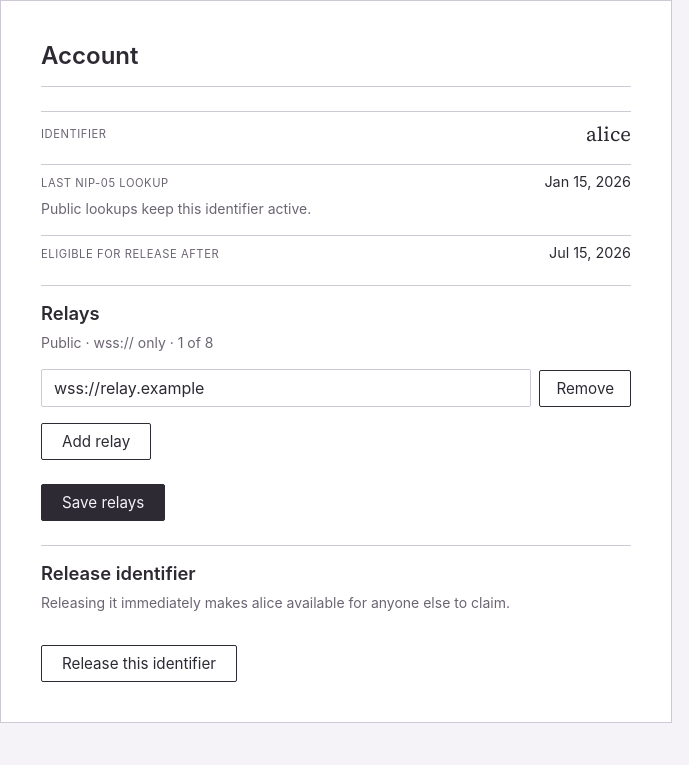
Test case: account relay editor › clears a row error when editing its relay
Click the button "Save relays".
click(103, 502)  # box [41,484,165,521]
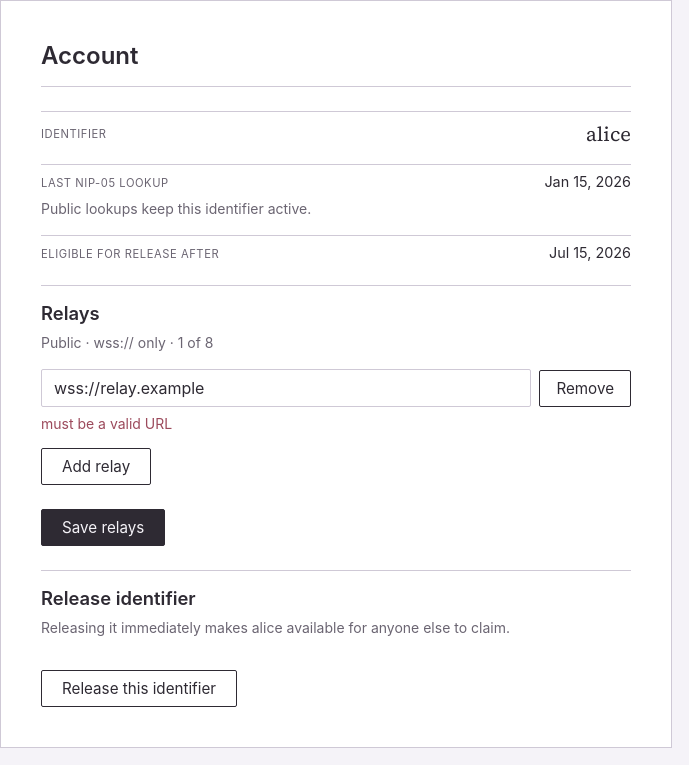
Expected: the message "must be a valid URL" is shown, [41,415,172,432]
Type "wss://next.example" into the field.
click(286, 388); type("wss://next.example")  # box [41,369,531,407]
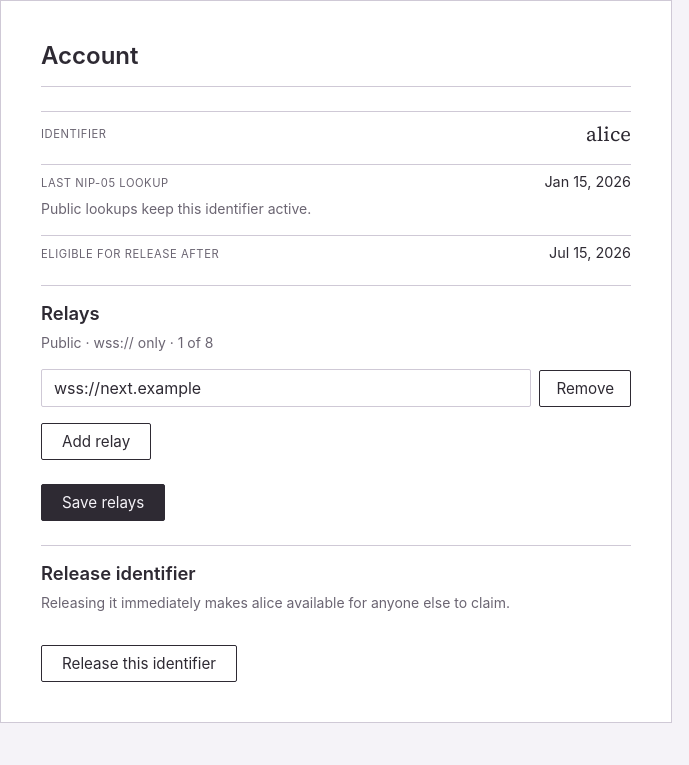
Expected: the message with id "relay-0-error" is gone
